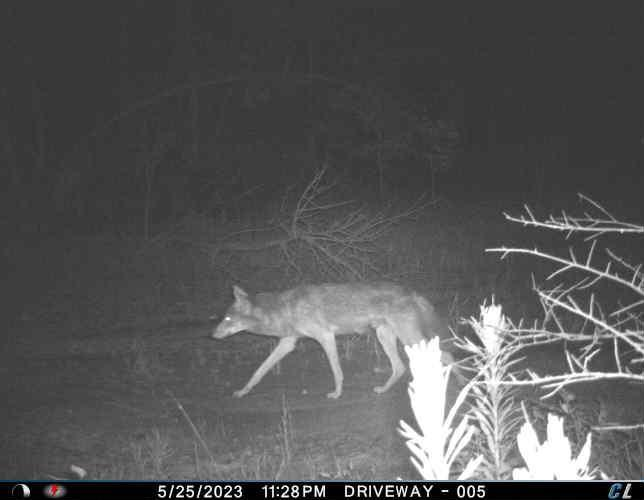Coyote: (212, 279, 468, 402)
